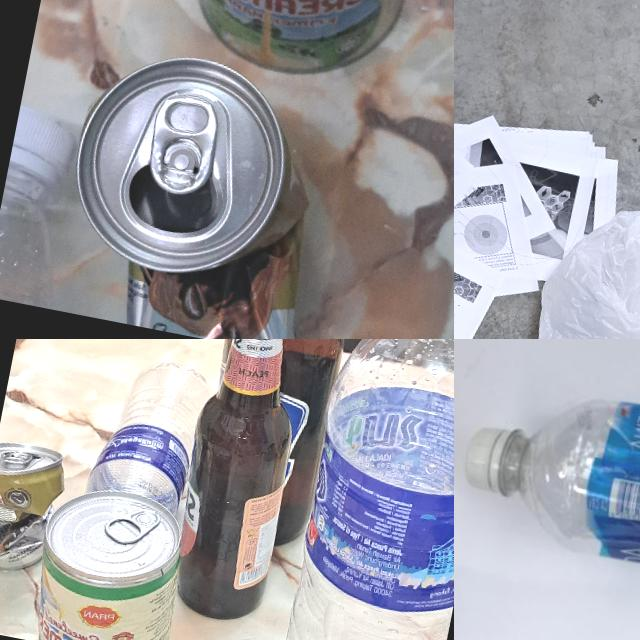aba de lata: (142, 92, 220, 198), (102, 501, 159, 555), (0, 445, 33, 472)
garrafa de vidro: (162, 339, 320, 630), (204, 339, 377, 551)
garrafa plástica: (275, 339, 454, 640), (502, 374, 640, 624), (86, 350, 212, 514), (0, 163, 77, 309)
lata: (44, 39, 351, 339), (131, 0, 454, 93), (24, 477, 196, 640), (0, 438, 67, 578)
papel: (454, 54, 631, 339)
sacola plástica: (516, 198, 640, 339)
tampa plástica: (10, 108, 78, 176), (458, 423, 518, 496)
